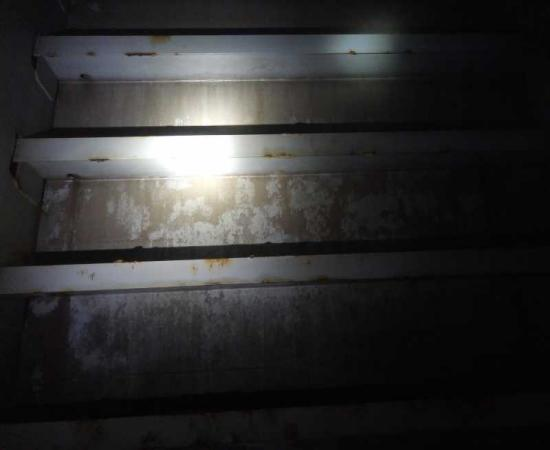corrosion: (114, 49, 170, 69), (258, 146, 306, 165), (194, 256, 235, 276), (81, 153, 124, 172), (151, 35, 180, 50), (84, 51, 100, 67)
